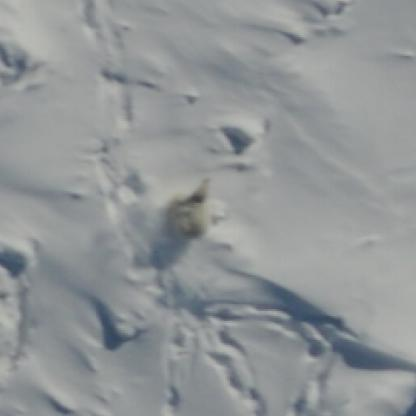polar-bear: (168, 176, 210, 237)
